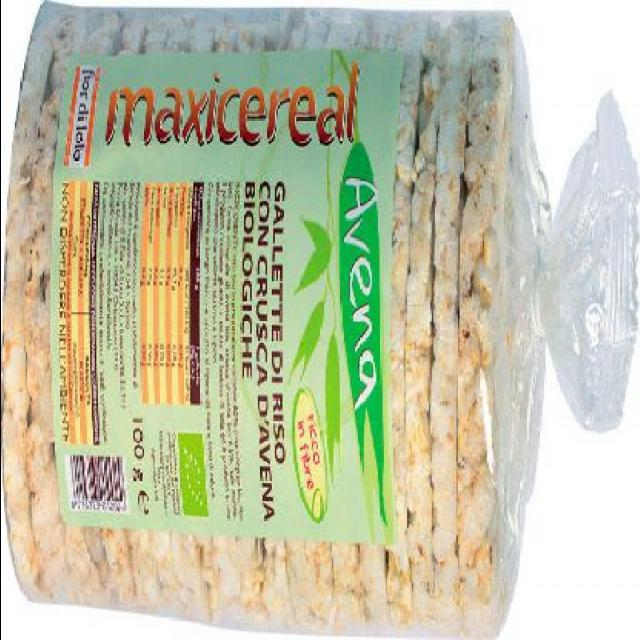Gallette di riso: (2, 6, 630, 623)
